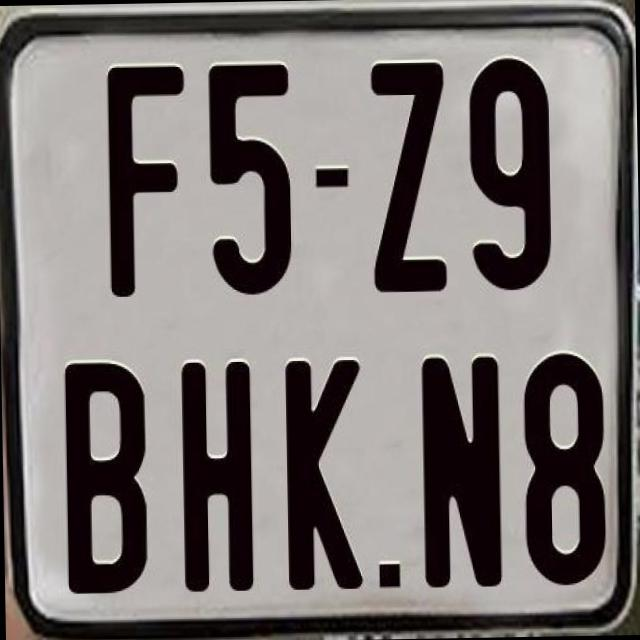5: (208, 59, 298, 300)
8: (519, 352, 609, 594)
9: (465, 56, 553, 294)
B: (63, 362, 153, 594)
F: (105, 63, 193, 301)
H: (176, 360, 252, 594)
K: (280, 358, 368, 598)
N: (416, 355, 498, 590)
Z: (366, 57, 445, 292)
